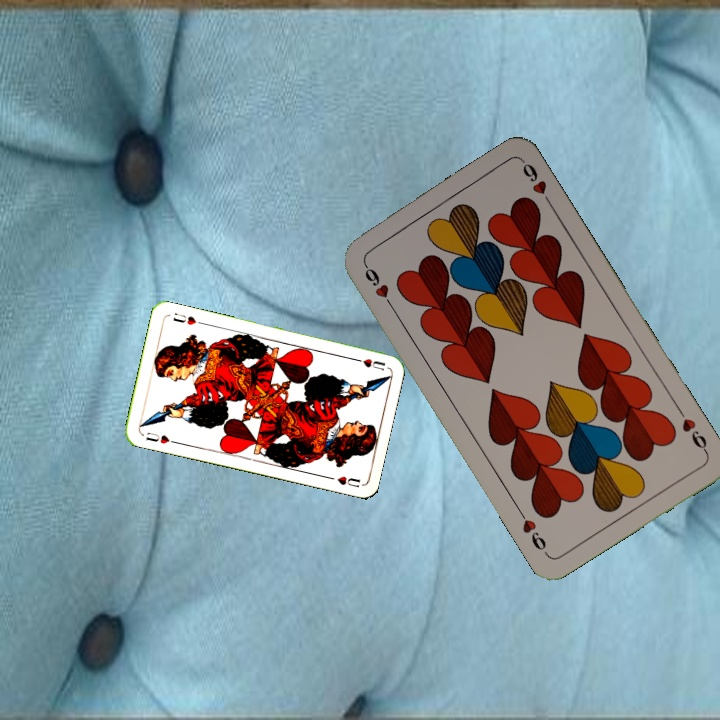H9: (673, 404, 711, 457), (359, 258, 397, 311)
HU: (349, 354, 388, 373), (142, 428, 172, 446)
